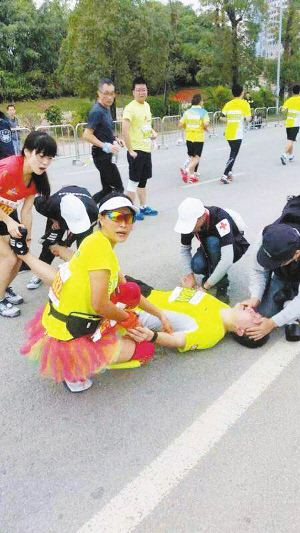fall: (113, 272, 274, 358)
